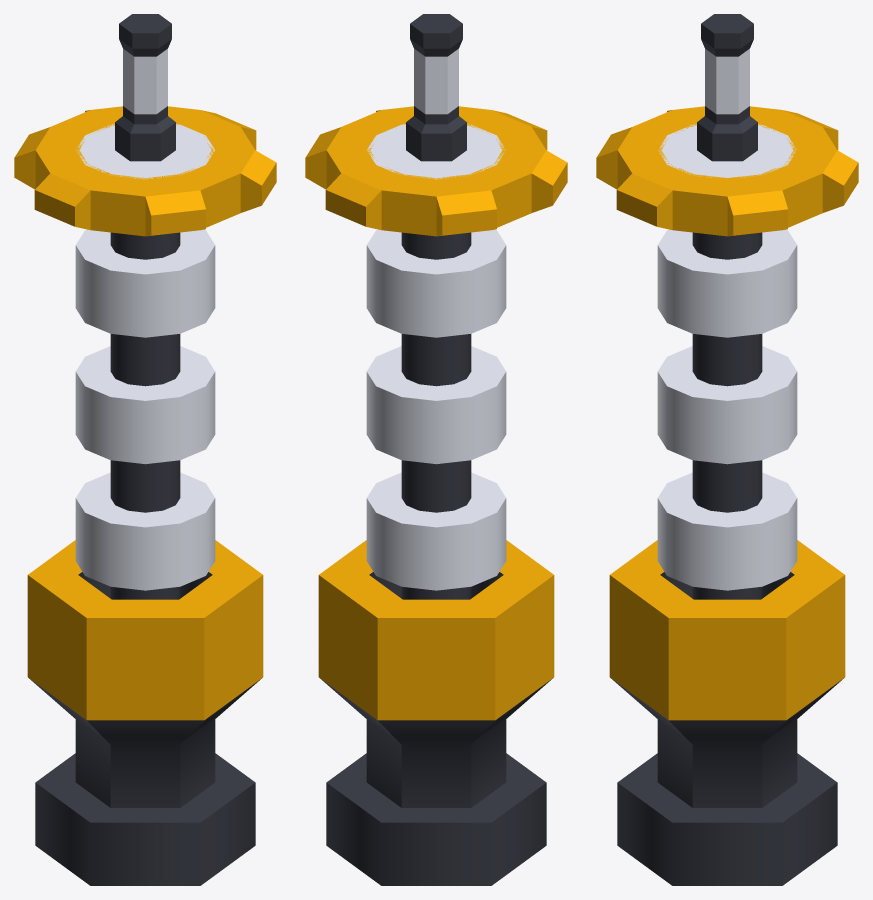
File: MiniElectricTrigger.fbx
3 views of the same model, side by side, from view 1: azimuth 30°, elevation 25°; view 2: azimuth 150°, elevation 25°; view 3: azimuth 270°, elevation 25° (orthographic).
Parts seen in each view (by area): view 1: mergedBlocks; view 2: mergedBlocks; view 3: mergedBlocks.
Part boxes in pixels (box(x1,y1,x2,y2)): mergedBlocks: box(14, 14, 276, 885); mergedBlocks: box(305, 14, 567, 885); mergedBlocks: box(596, 14, 858, 885).
Bounding box in the file's own units: 0.0376 × 0.13 × 0.0376.
